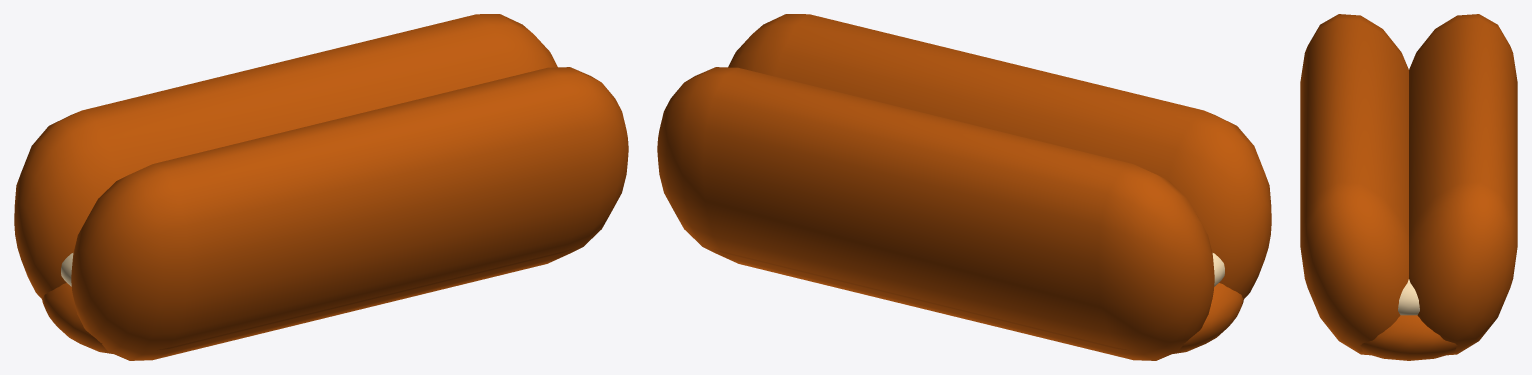
Rendered from Bun.obj.
The picture shows the model from 3 angles, left to right: view 1: azimuth 30°, elevation 25°; view 2: azimuth 150°, elevation 25°; view 3: azimuth 270°, elevation 25°; orthographic projection. The views are drawn at different scales.
Parts seen in each view (by area): view 1: Bun; view 2: Bun; view 3: Bun.
Boxes of the visible parts, x1,y1,x2,y2 form: Bun: [14, 14, 628, 360]; Bun: [657, 14, 1271, 360]; Bun: [1300, 14, 1517, 360].
Size of the model in its own units: 1.76 by 0.6217 by 0.7233.
